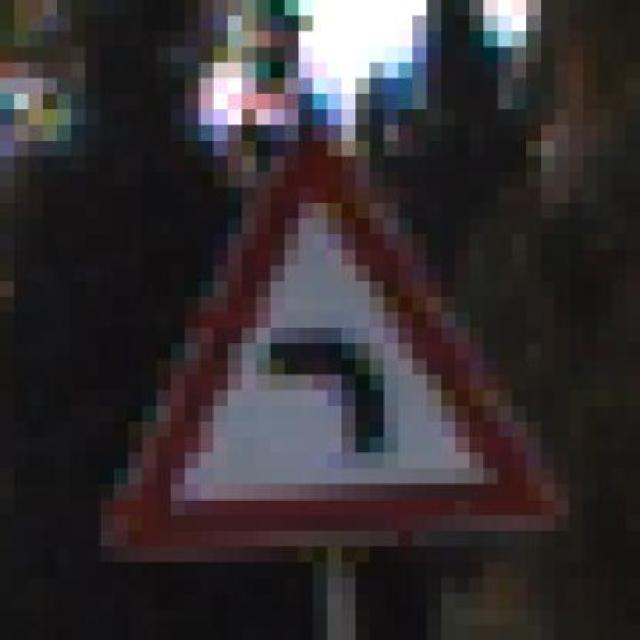Dangerous Left Curve Ahead: (99, 109, 584, 562)
